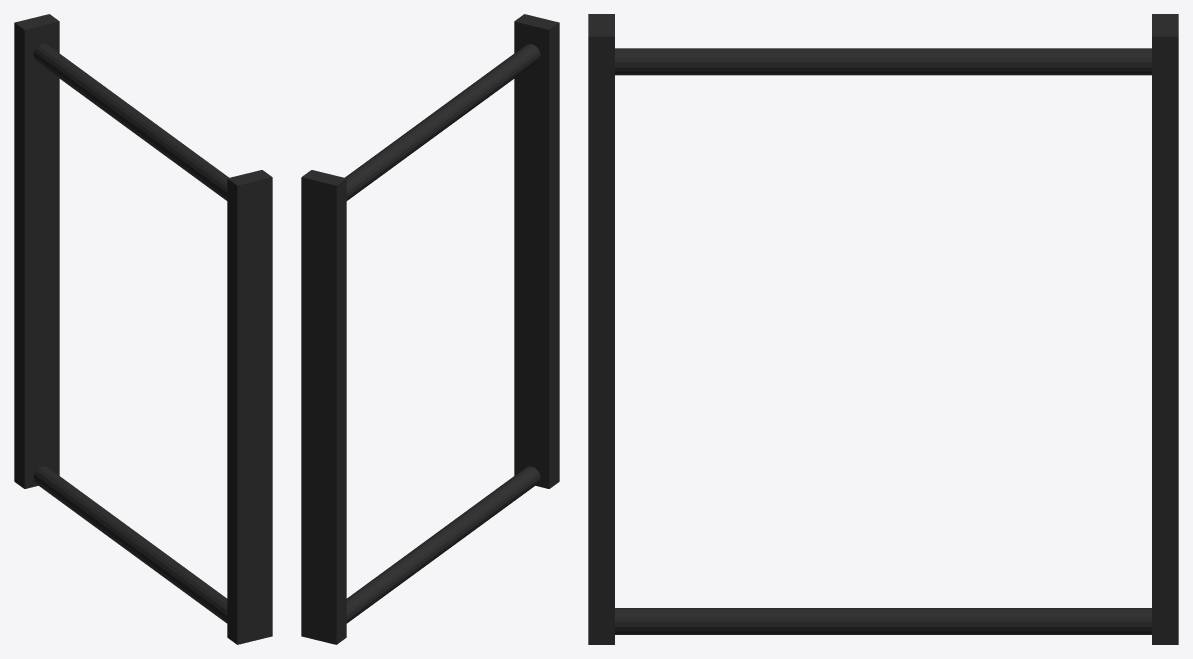
File: Cart-Swing.fbx
3 views of the same model, side by side, from view 1: azimuth 30°, elevation 25°; view 2: azimuth 150°, elevation 25°; view 3: azimuth 270°, elevation 25° (orthographic). The views are drawn at different scales.
Parts seen in each view (by area): view 1: Cart-Swing.002, Cart-Swing.005, Cart-Swing, Cart-Swing.001; view 2: Cart-Swing.005, Cart-Swing.002, Cart-Swing, Cart-Swing.001; view 3: Cart-Swing.005, Cart-Swing.002, Cart-Swing.001, Cart-Swing.
Part boxes in pixels (x1,y1,x2,y2): Cart-Swing.002: [227, 170, 272, 644]; Cart-Swing.005: [14, 14, 59, 488]; Cart-Swing: [33, 466, 227, 623]; Cart-Swing.001: [33, 44, 228, 200]; Cart-Swing.005: [301, 170, 346, 644]; Cart-Swing.002: [514, 14, 559, 488]; Cart-Swing: [346, 466, 540, 623]; Cart-Swing.001: [345, 44, 540, 200]; Cart-Swing.005: [1152, 14, 1178, 644]; Cart-Swing.002: [588, 14, 614, 644]; Cart-Swing.001: [615, 48, 1151, 75]; Cart-Swing: [615, 608, 1151, 634].
Size of the model in its own units: 0.2 by 2.5 by 2.2.
1 material, 1 textured.
